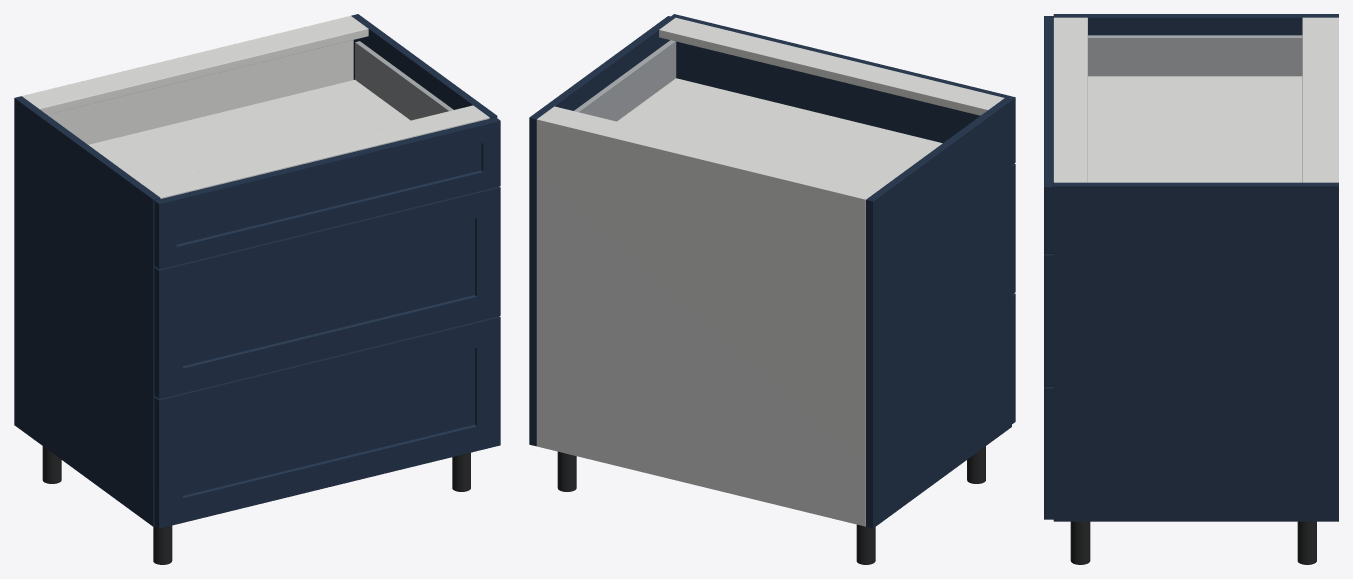
File: oppein-pb-bss-3db33.glb
3 renders of one model, left to right at view 1: azimuth 30°, elevation 25°; view 2: azimuth 150°, elevation 25°; view 3: azimuth 270°, elevation 25°, orthographic. The views are drawn at different scales.
Parts seen in each view (by area): view 1: Cabinet side, Drawer front, Drawer front.001, Drawer front.002, Drawer floor.002, Cabinet back, Top support rail, Top support rail.001, Drawer side.005, Cabinet side.001, Adjustable foot.001, Adjustable foot.003 (+1 smaller); view 2: Cabinet back, Cabinet side, Drawer floor.002, Drawer front.002, Top support rail.001, Cabinet side.001, Top support rail, Drawer side.005, Cabinet bottom, Adjustable foot, Adjustable foot.002; view 3: Cabinet side.001, Drawer floor.002, Drawer side.004, Top support rail.001, Top support rail, Cabinet side, Drawer front.002, Drawer front, Drawer front.001, Cabinet back, Adjustable foot.003, Adjustable foot.002.
Part boxes in pixels (box(x1,y1,x2,y2)): Cabinet side: box(14, 96, 160, 526); Drawer front: box(154, 316, 500, 528); Drawer front.001: box(154, 186, 500, 398); Drawer front.002: box(154, 117, 500, 269); Drawer floor.002: box(88, 80, 410, 185); Cabinet back: box(22, 16, 353, 144); Top support rail: box(24, 17, 368, 114); Top support rail.001: box(144, 105, 489, 198); Drawer side.005: box(355, 41, 453, 120); Cabinet side.001: box(351, 14, 497, 118); Adjustable foot.001: box(153, 525, 172, 564); Adjustable foot.003: box(452, 452, 470, 491); Cabinet back: box(536, 117, 867, 526); Cabinet side: box(866, 98, 1011, 528); Drawer floor.002: box(617, 78, 942, 186); Drawer front.002: box(671, 14, 1015, 164); Top support rail.001: box(659, 17, 1004, 115); Cabinet side.001: box(529, 16, 674, 446); Top support rail: box(540, 106, 883, 197); Drawer side.005: box(574, 40, 676, 121); Cabinet bottom: box(537, 440, 865, 526); Adjustable foot: box(856, 524, 875, 564); Adjustable foot.002: box(557, 451, 576, 491); Cabinet side.001: box(1053, 182, 1338, 521); Drawer floor.002: box(1088, 76, 1302, 182); Drawer side.004: box(1088, 35, 1302, 76); Top support rail.001: box(1053, 17, 1087, 182); Top support rail: box(1302, 17, 1333, 182); Cabinet side: box(1053, 14, 1338, 35); Drawer front.002: box(1044, 16, 1053, 253); Drawer front: box(1044, 387, 1053, 519); Drawer front.001: box(1044, 254, 1053, 386); Cabinet back: box(1333, 17, 1338, 182); Adjustable foot.003: box(1070, 521, 1090, 564); Adjustable foot.002: box(1297, 521, 1316, 564).
Size of the model in its own units: 0.8382 by 0.8763 by 0.6064.
